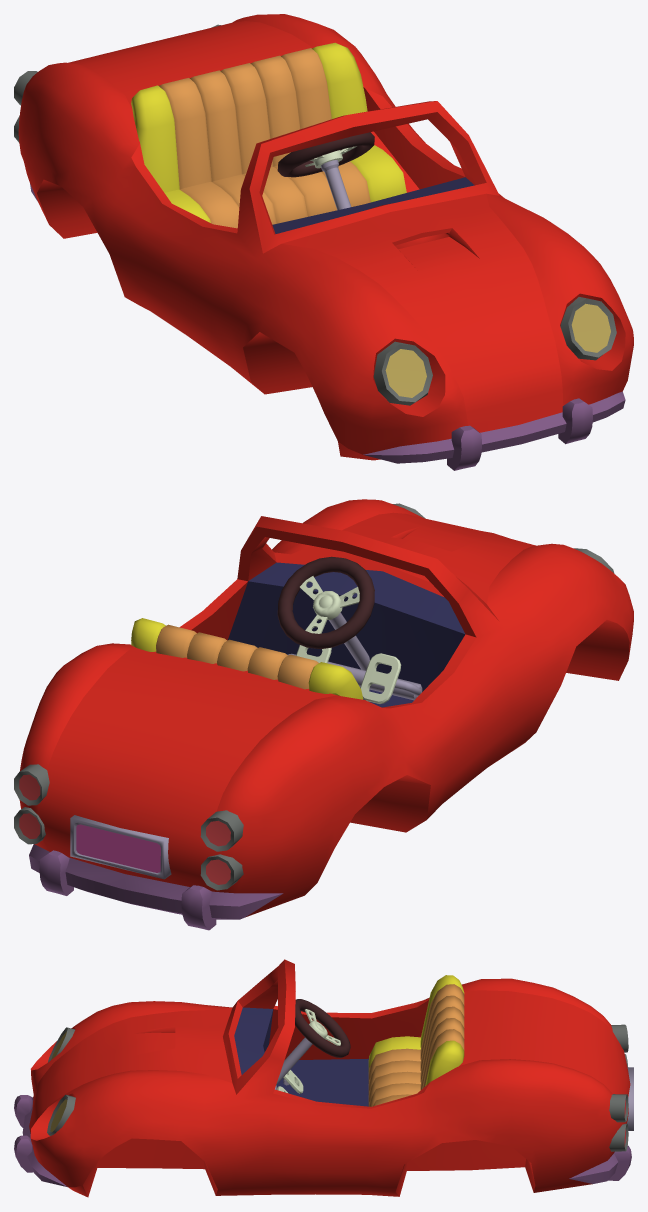
Rendered from Roadster_Body.fbx.
3 renders of one model, top to bottom at view 1: azimuth 30°, elevation 25°; view 2: azimuth 150°, elevation 25°; view 3: azimuth 270°, elevation 25°, orthographic. The views are drawn at different scales.
Visible parts, largest first — view 1: Roadster_Body.012, Roadster_Headlights; view 2: Roadster_Body.012, Roadster_Taillights; view 3: Roadster_Body.012.
Boxes of the visible parts, bbox=[...] form: Roadster_Body.012: bbox=[14, 14, 633, 470]; Roadster_Headlights: bbox=[385, 303, 610, 397]; Roadster_Body.012: bbox=[14, 499, 633, 930]; Roadster_Taillights: bbox=[19, 774, 230, 884]; Roadster_Body.012: bbox=[14, 959, 633, 1197].
Size of the model in its own units: 147 by 94.87 by 324.
